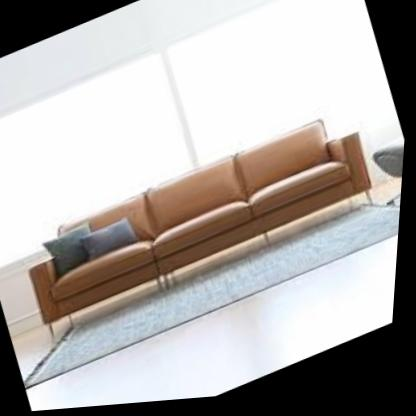Sofa: (0, 82, 402, 361)
